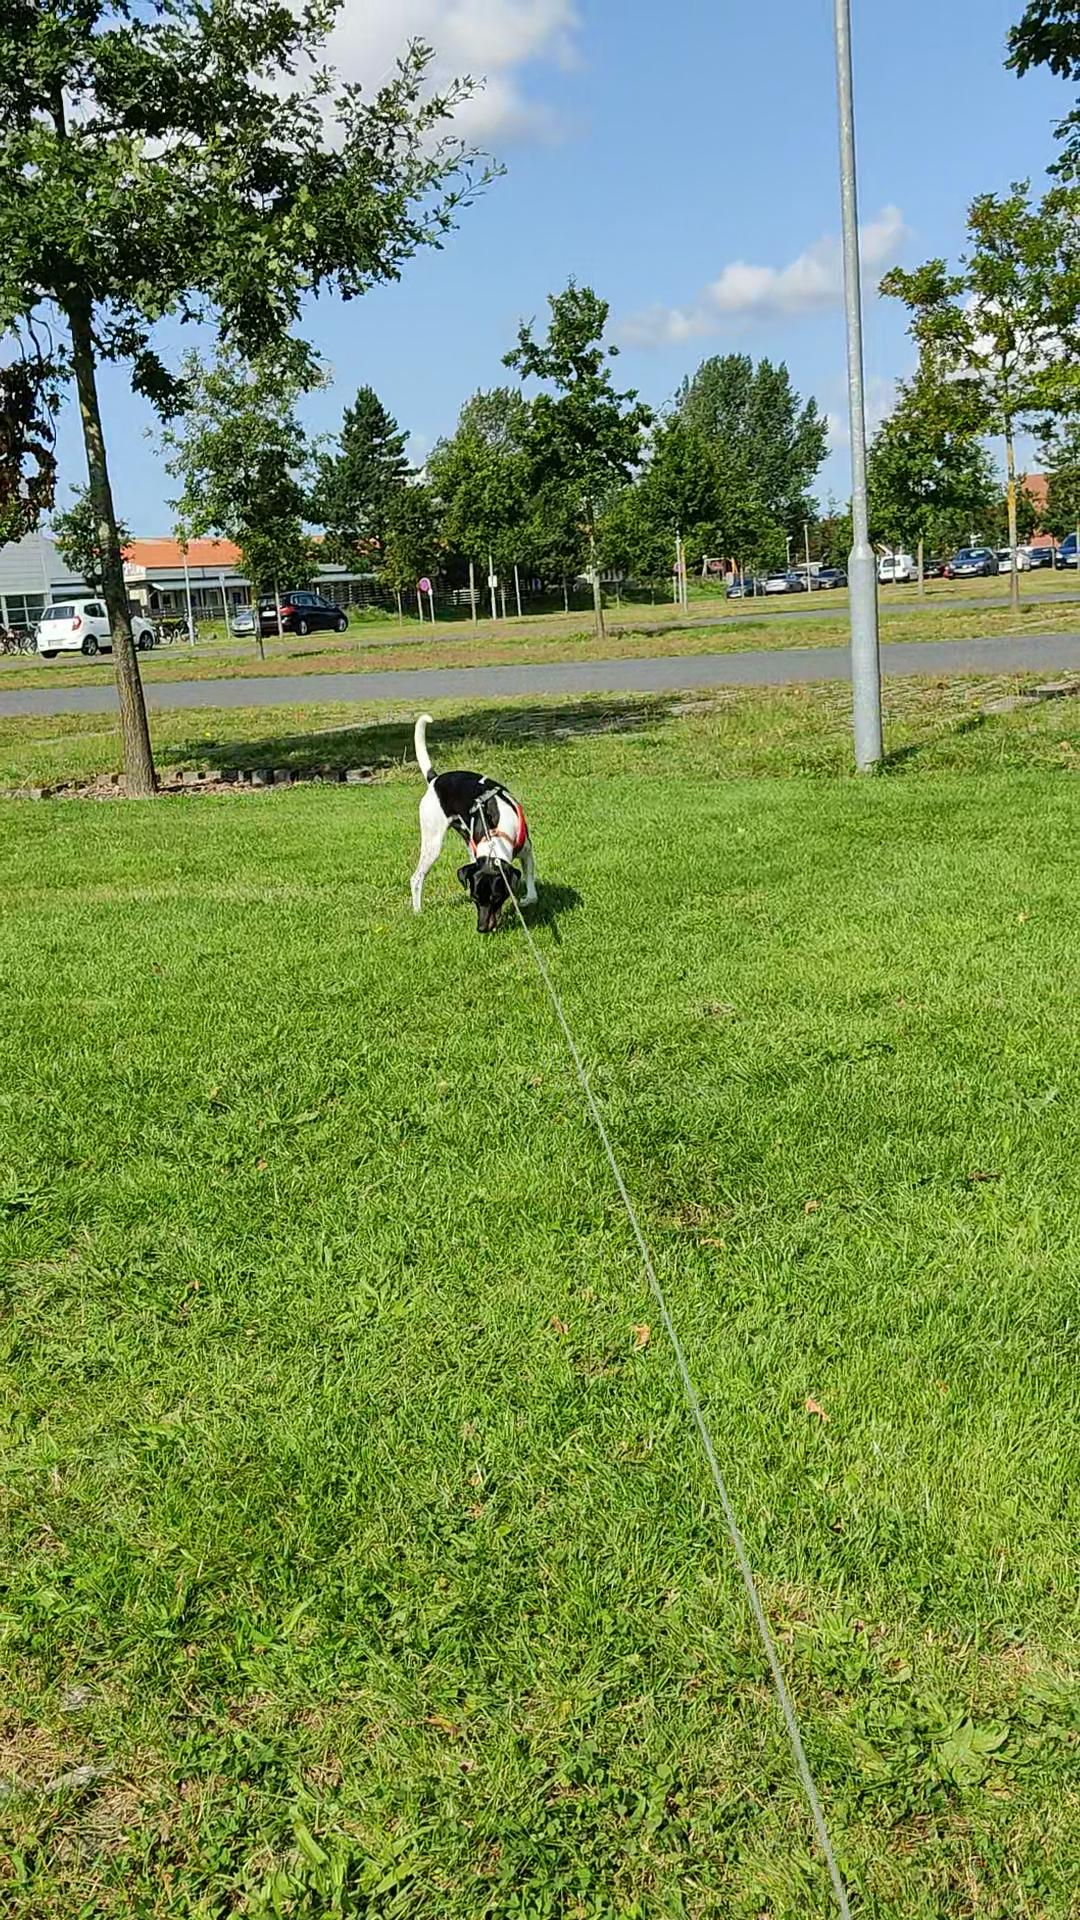Dog: (404, 711, 546, 938)
